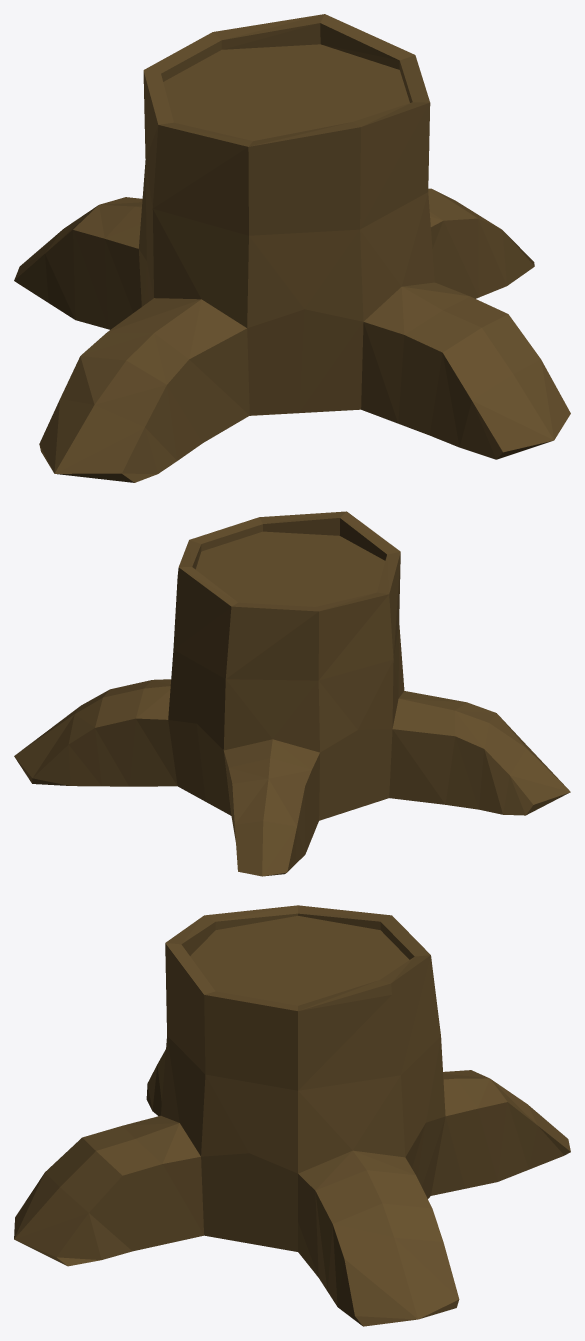
File: Wurzeln I.fbx
3 views of the same model, one above another, from view 1: azimuth 30°, elevation 25°; view 2: azimuth 150°, elevation 25°; view 3: azimuth 270°, elevation 25° (orthographic). The views are drawn at different scales.
Visible parts, largest first — view 1: Zylinder_1; view 2: Zylinder_1; view 3: Zylinder_1.
Boxes of the visible parts, x1=… form: Zylinder_1: x1=14, y1=14, x2=570, y2=482; Zylinder_1: x1=14, y1=511, x2=570, y2=876; Zylinder_1: x1=14, y1=905, x2=570, y2=1326.
Size of the model in its own units: 454 by 218 by 419.
